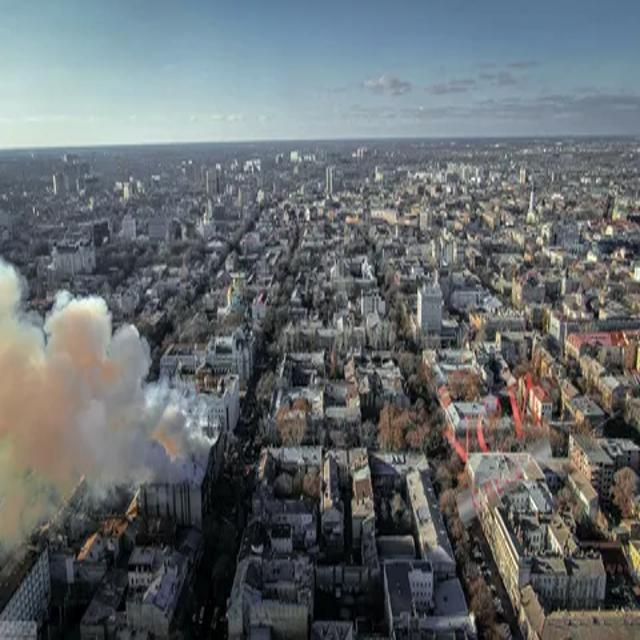Smoke: (0, 260, 208, 490)
